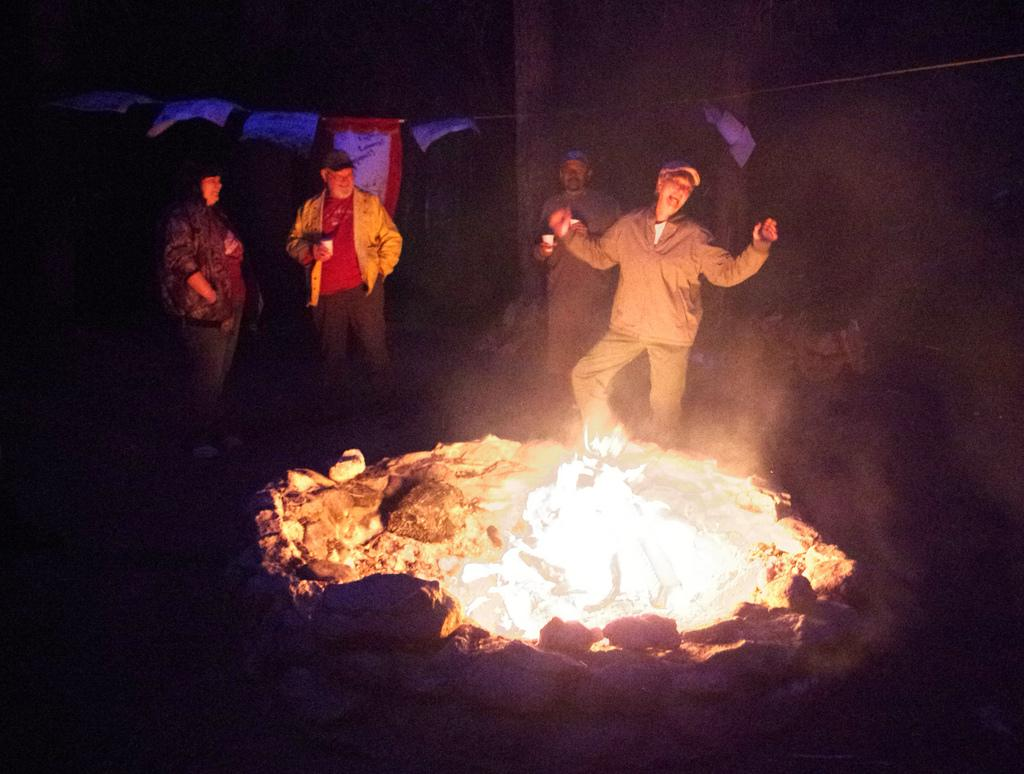fire: (522, 458, 768, 612)
